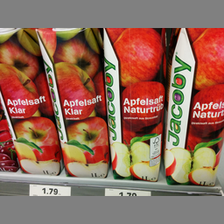juice: (35, 28, 109, 179), (102, 28, 167, 182), (1, 28, 62, 176), (167, 28, 223, 186)
